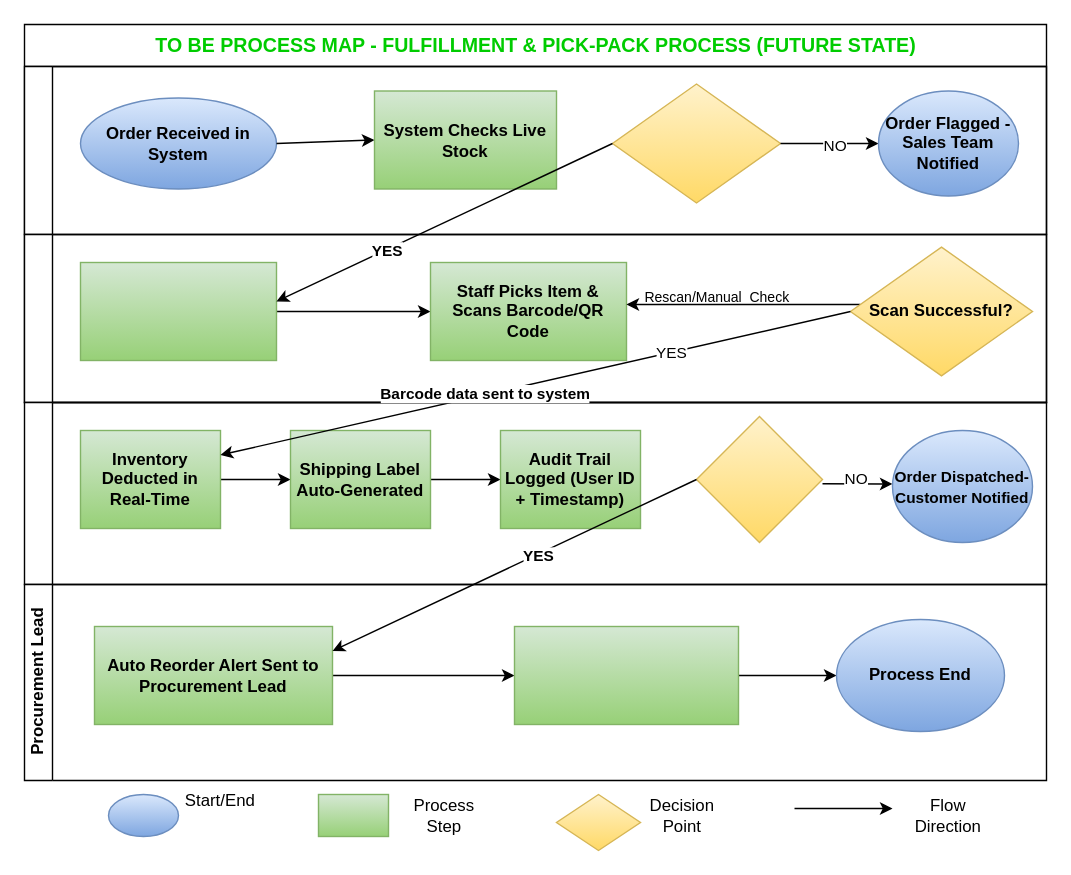
This 1071x875 diagram has some shape labels left out. Each missing label, with the box of its shape:
Procurement Lead Reviews & Initiates Reorder: (513, 625, 738, 724)
Sales Team/Admin: (23, 65, 1046, 234)
Staff Receives Pick Notification on Device: (79, 261, 276, 360)
Stock Available?: (611, 83, 780, 203)
Stock Now Below Safety Threshold?: (695, 415, 822, 542)
Warehouse App: (23, 401, 1046, 584)
Warehouse Staff: (23, 233, 1046, 402)
